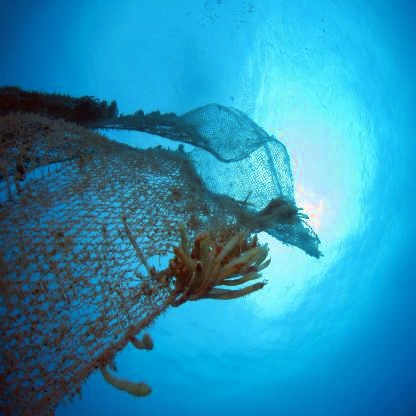net: (0, 109, 291, 413)
